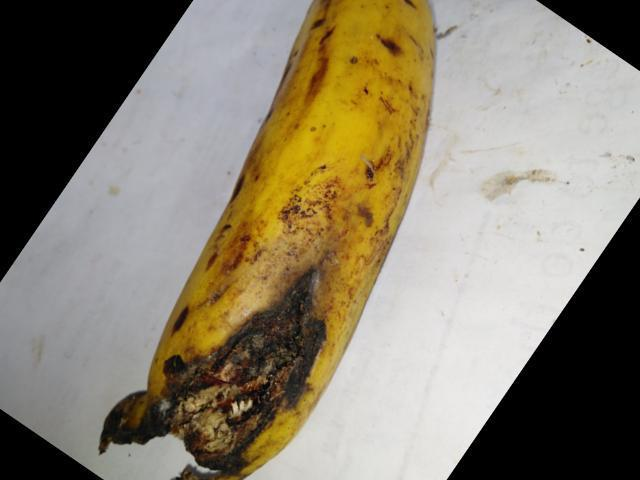rotten: (77, 231, 361, 479)
